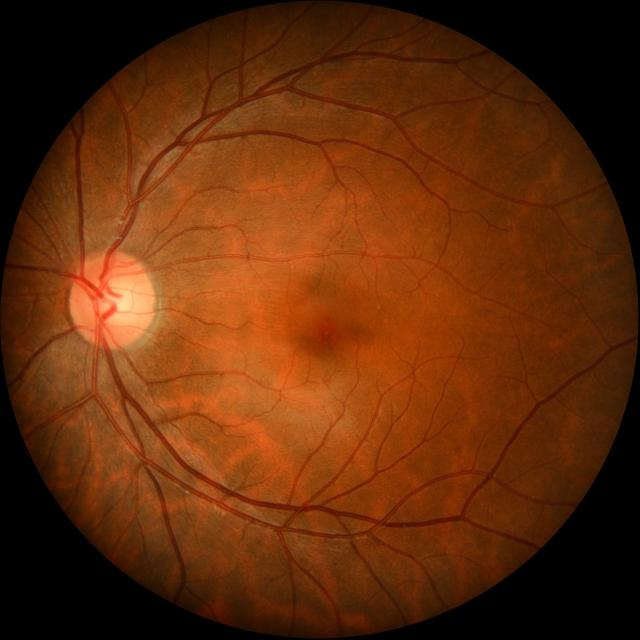OC: (94, 278, 136, 321)
OD: (69, 251, 154, 349)
